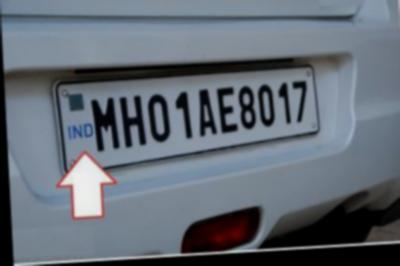License_Plate: (63, 69, 317, 154)
